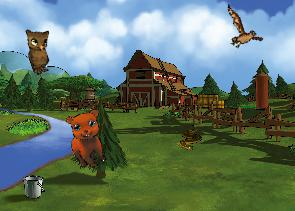bear: (58, 103, 120, 173)
eagle: (212, 4, 270, 57)
owl: (20, 23, 61, 76)
